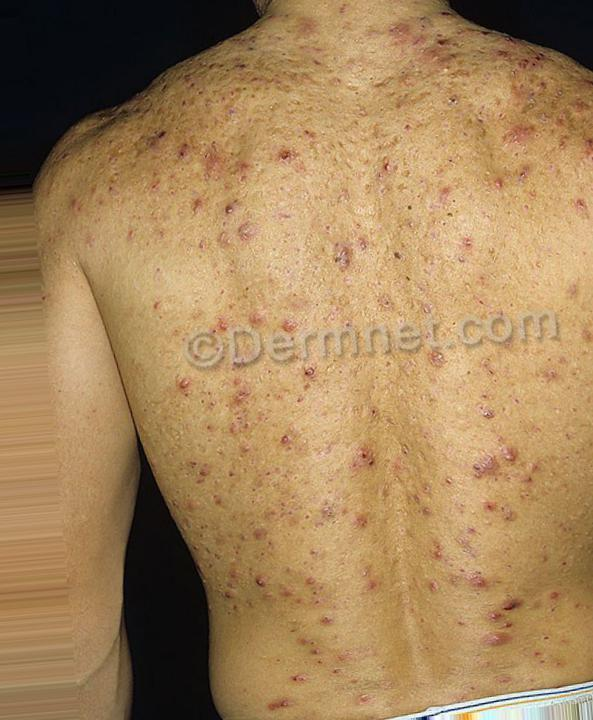Acne: (304, 0, 593, 280), (380, 300, 593, 650), (178, 334, 376, 562), (88, 108, 312, 298), (164, 626, 374, 720)
